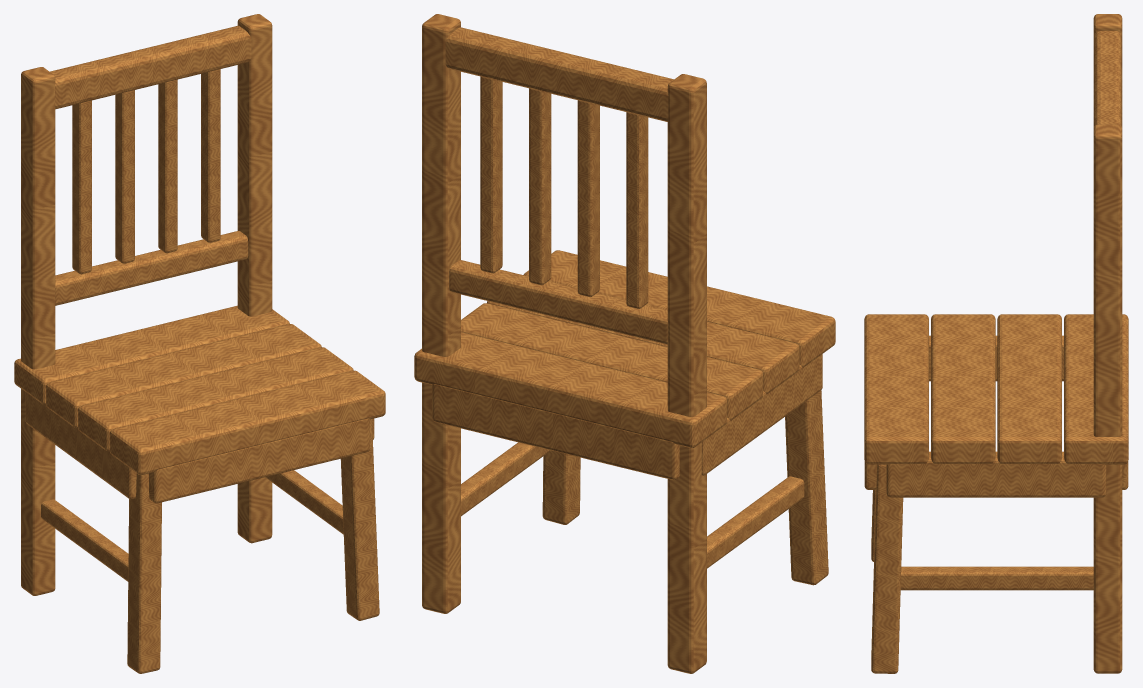
Rendered from chair.obj.
3 views of the same model, side by side, from view 1: azimuth 30°, elevation 25°; view 2: azimuth 150°, elevation 25°; view 3: azimuth 270°, elevation 25° (orthographic). The views are drawn at different scales.
Parts seen in each view (by area): view 1: Back_Left_Post, Seat_Plank_1, Back_Right_Post, Seat_Plank_3, Seat_Plank_2, Seat_Plank_4, Back_Top_Rail, Front_Apron, Front_Left_Leg, Back_Lower_Rail, Front_Right_Leg, Left_Apron (+6 smaller); view 2: Back_Left_Post, Back_Right_Post, Seat_Plank_4, Back_Top_Rail, Back_Apron, Seat_Plank_3, Seat_Plank_1, Back_Lower_Rail, Front_Left_Leg, Left_Apron, Back_Vertical_Slat_2, Back_Vertical_Slat_1 (+6 smaller); view 3: Back_Right_Post, Seat_Plank_1, Seat_Plank_2, Seat_Plank_3, Right_Apron, Seat_Plank_4, Front_Right_Leg, Right_Side_Stretcher, Back_Top_Rail, Back_Left_Post.
Boxes of the visible parts, x1,y1,x2,y2 form: Back_Left_Post: (21, 67, 55, 595); Seat_Plank_1: (109, 370, 385, 474); Back_Right_Post: (237, 14, 272, 543); Seat_Plank_3: (46, 324, 321, 427); Seat_Plank_2: (78, 347, 353, 450); Seat_Plank_4: (14, 305, 289, 403); Back_Top_Rail: (50, 25, 251, 109); Front_Apron: (149, 418, 369, 503); Front_Left_Leg: (127, 473, 161, 673); Back_Lower_Rail: (55, 231, 248, 305); Front_Right_Leg: (340, 419, 379, 620); Left_Apron: (25, 392, 136, 499); Back_Left_Post: (667, 74, 706, 673); Back_Right_Post: (422, 14, 460, 613); Seat_Plank_4: (414, 332, 727, 447); Back_Top_Rail: (445, 27, 673, 121); Back_Apron: (432, 384, 679, 480); Seat_Plank_3: (461, 303, 763, 420); Seat_Plank_1: (523, 250, 835, 367); Back_Lower_Rail: (449, 260, 667, 344); Front_Left_Leg: (785, 390, 828, 585); Left_Apron: (701, 354, 822, 475); Back_Vertical_Slat_2: (577, 100, 599, 296); Back_Vertical_Slat_1: (626, 112, 648, 308); Back_Right_Post: (1093, 124, 1122, 673); Seat_Plank_1: (864, 314, 928, 464); Seat_Plank_2: (931, 314, 995, 463); Seat_Plank_3: (997, 314, 1061, 463); Right_Apron: (886, 451, 1106, 497); Seat_Plank_4: (1064, 314, 1128, 464); Front_Right_Leg: (871, 464, 903, 673); Right_Side_Stretcher: (900, 566, 1093, 590); Back_Top_Rail: (1094, 31, 1121, 125); Back_Left_Post: (1093, 14, 1122, 127).
Bounding box in the file's own units: 2.2 × 4.38 × 1.94.
